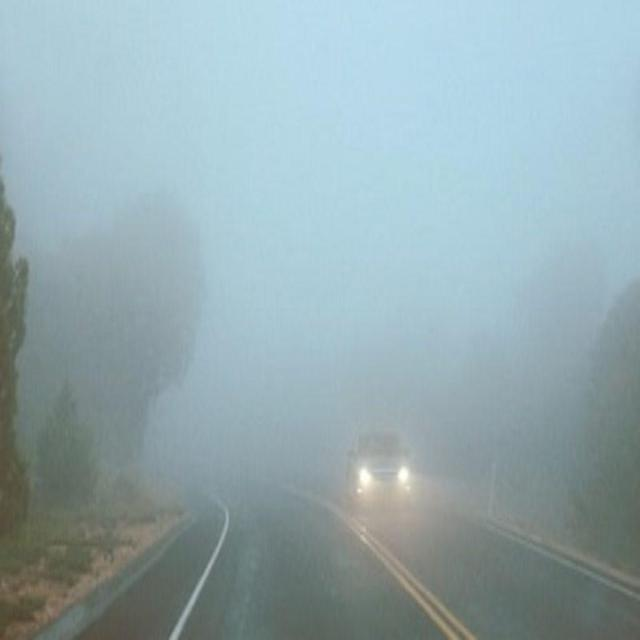Car: (343, 426, 415, 510)
